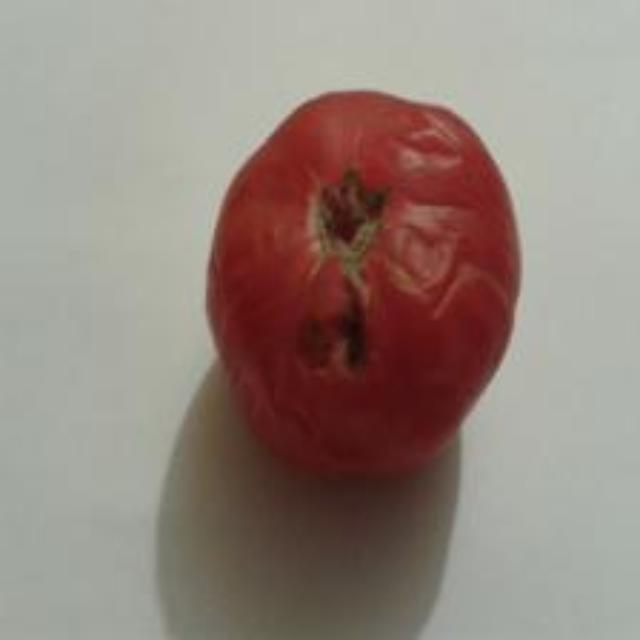defect: (203, 84, 524, 483)
